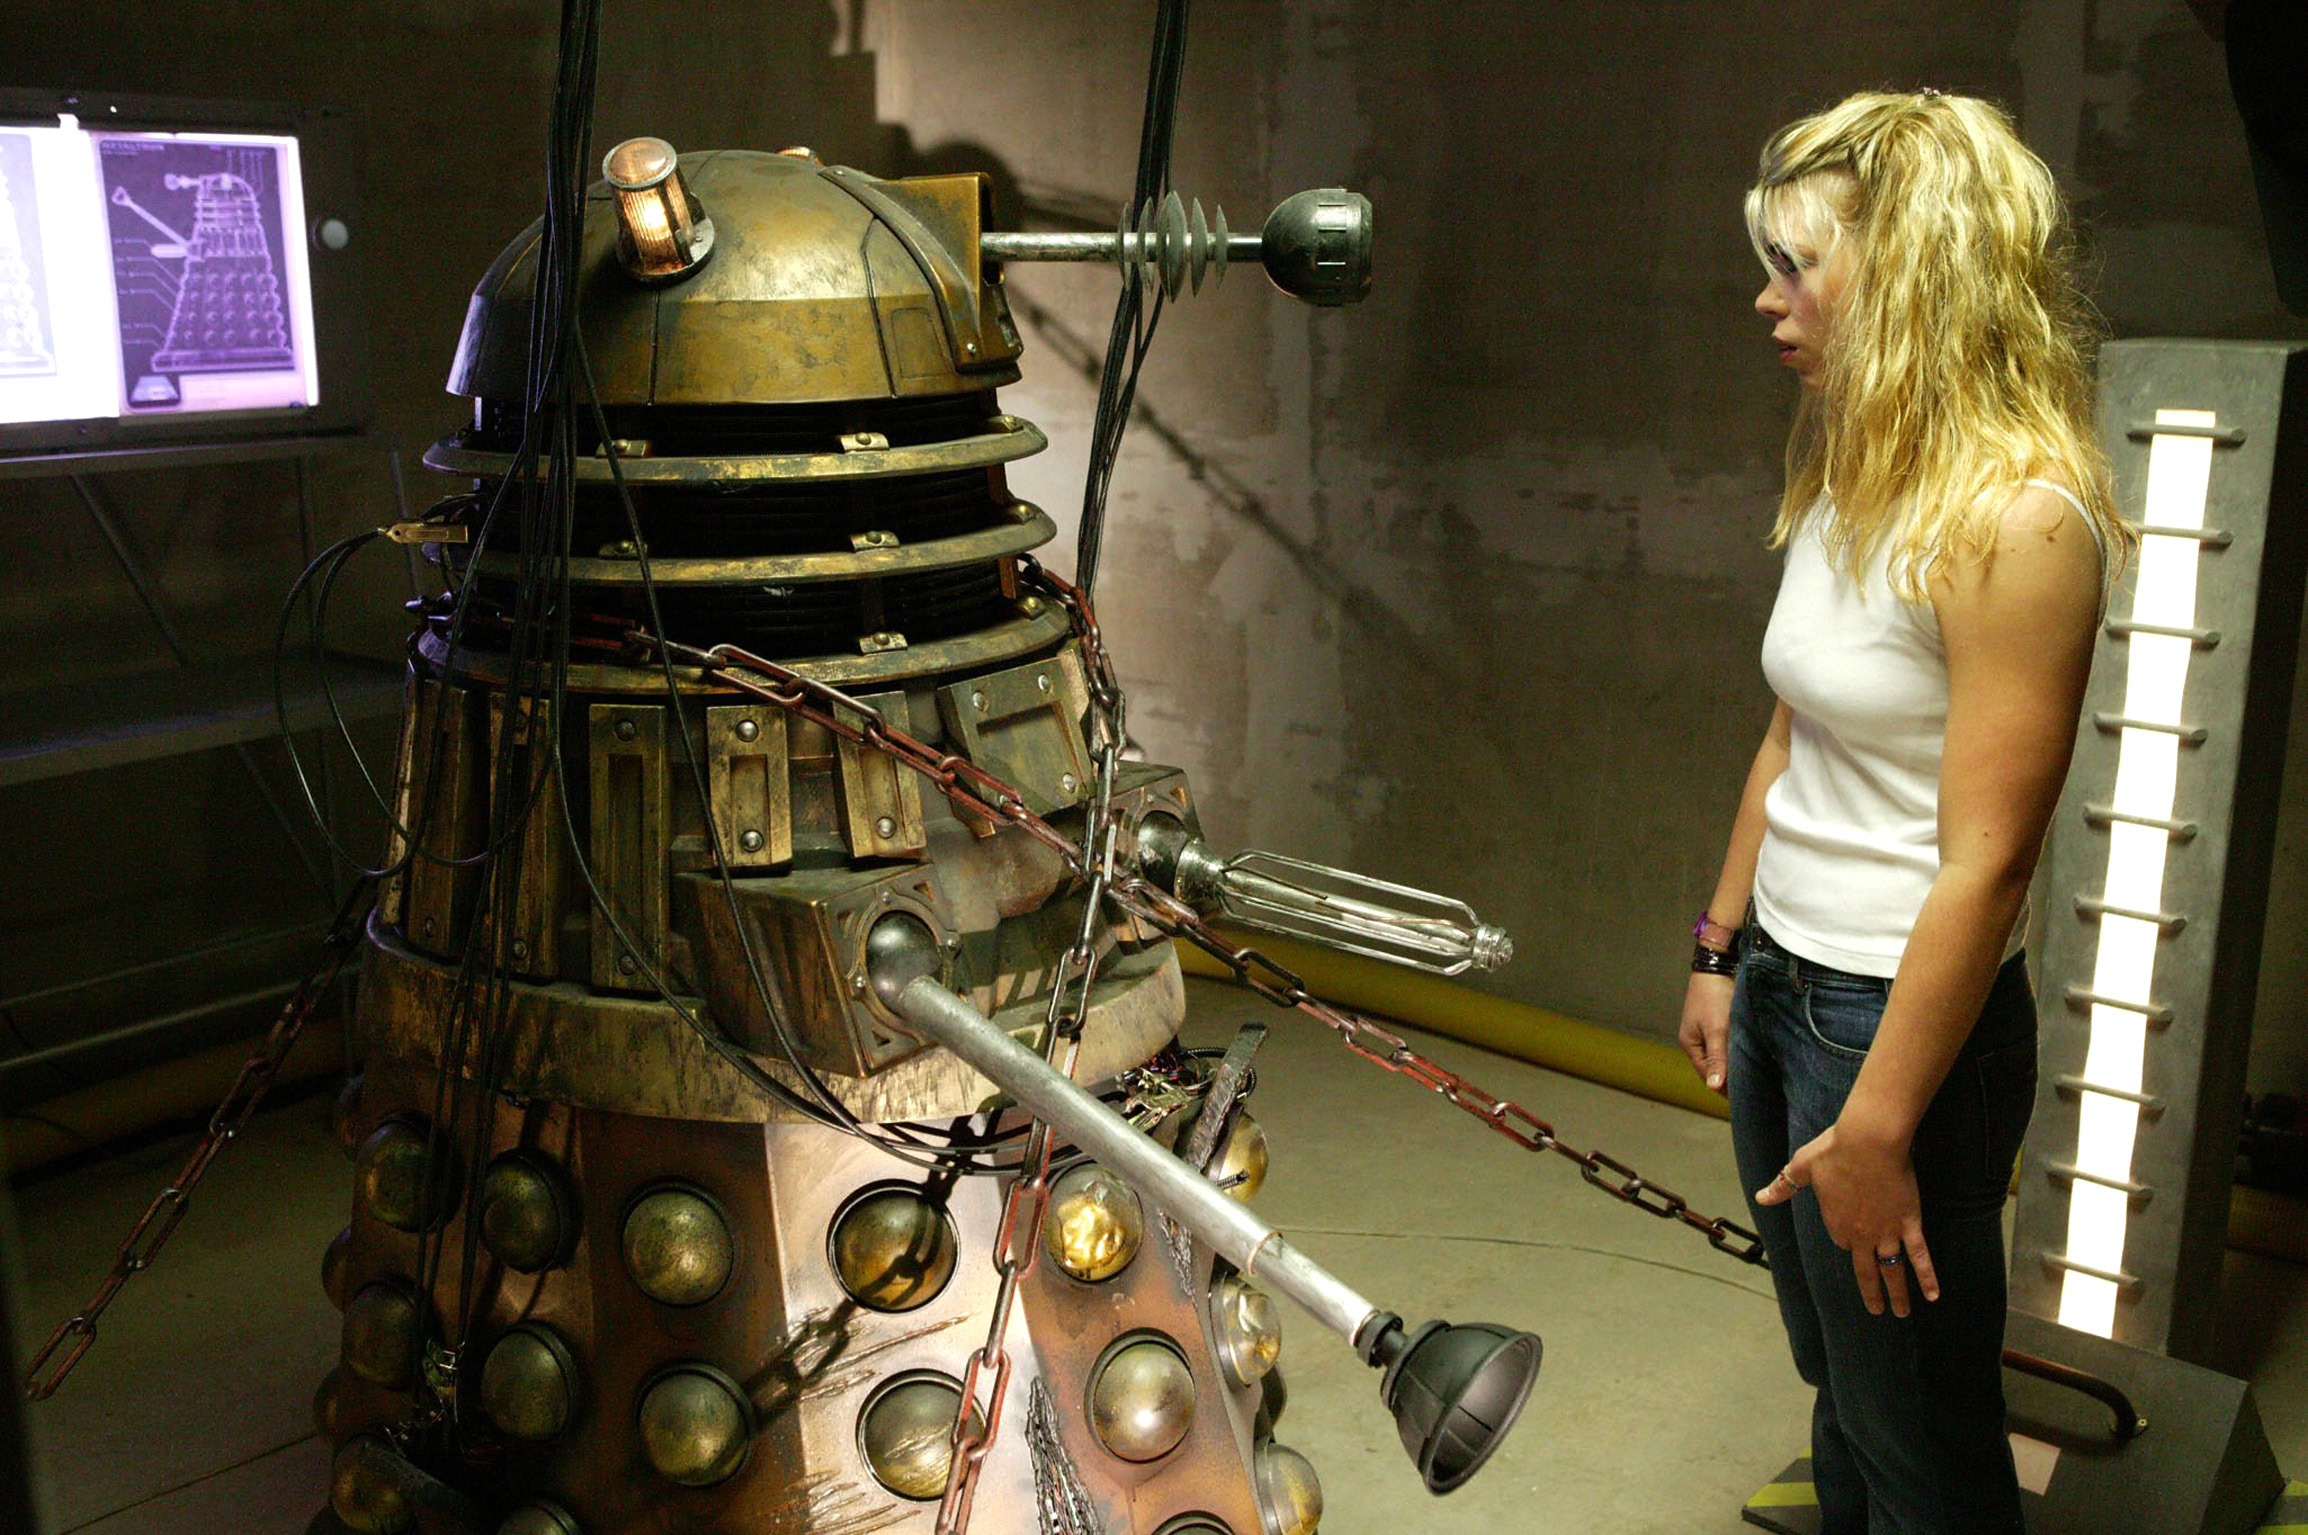dalek: (360, 65, 1331, 1521)
